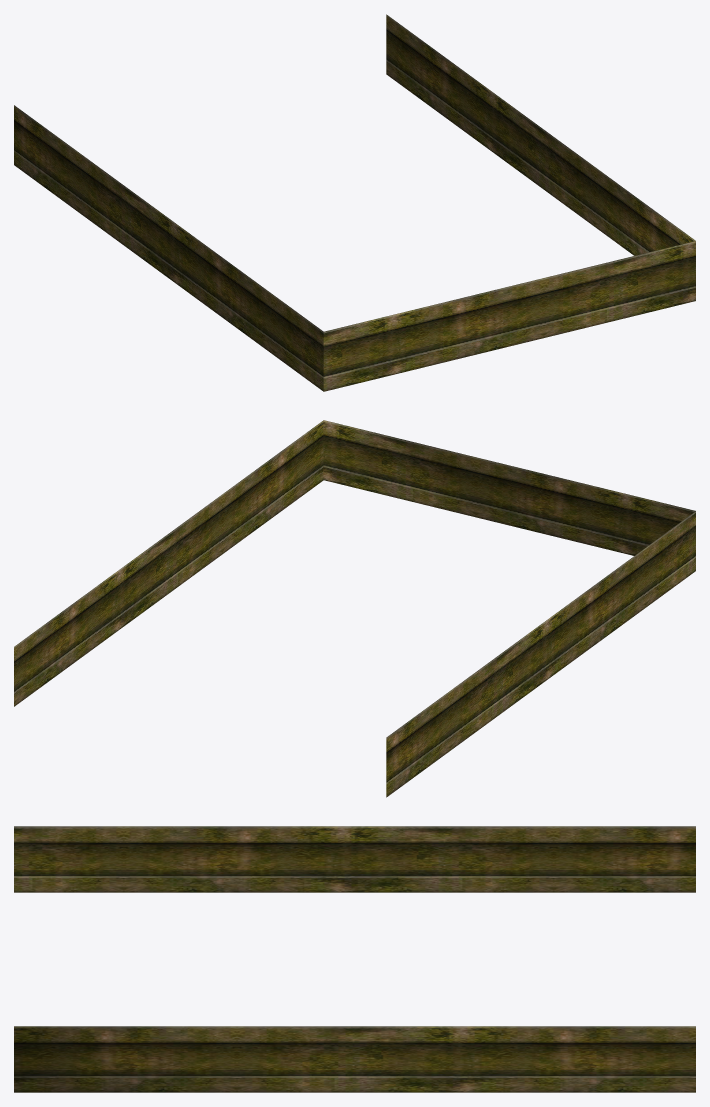
File: OVERHILL_A_01_OBJECT140.fbx
The picture shows the model from 3 angles, top to bottom: view 1: azimuth 30°, elevation 25°; view 2: azimuth 150°, elevation 25°; view 3: azimuth 270°, elevation 25°; orthographic projection. The views are drawn at different scales.
Parts seen in each view (by area): view 1: OVERHILL_A_01_OBJECT140; view 2: OVERHILL_A_01_OBJECT140; view 3: OVERHILL_A_01_OBJECT140.
Part boxes in pixels (x1,y1,x2,y2): OVERHILL_A_01_OBJECT140: [14, 14, 695, 391]; OVERHILL_A_01_OBJECT140: [14, 420, 695, 797]; OVERHILL_A_01_OBJECT140: [14, 826, 695, 1092].
Bounding box in the file's own units: 34680 × 5356 × 50000.
1 material, 1 textured.
